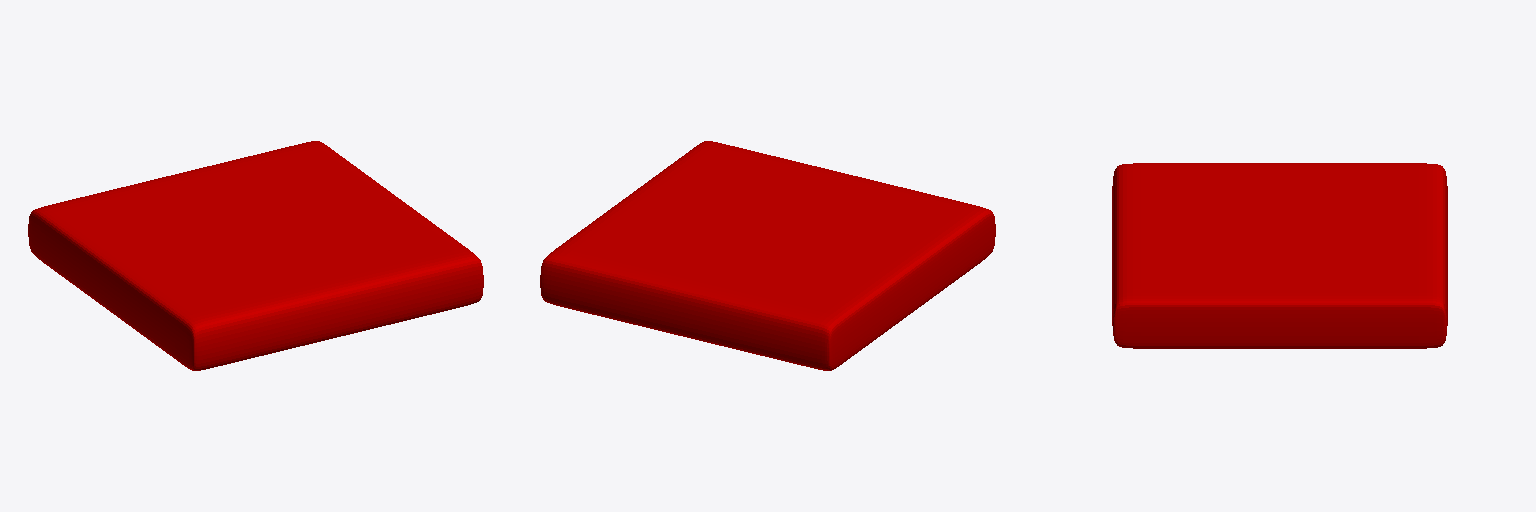
The model's file is cubeDanger.obj.
3 views of the same model, side by side, from view 1: azimuth 30°, elevation 25°; view 2: azimuth 150°, elevation 25°; view 3: azimuth 270°, elevation 25° (orthographic).
Parts seen in each view (by area): view 1: Cube; view 2: Cube; view 3: Cube.
Part boxes in pixels (left/top/right/bottom): Cube: left=28, top=141, right=483, bottom=370; Cube: left=540, top=141, right=995, bottom=370; Cube: left=1112, top=163, right=1447, bottom=348.
Bounding box in the file's own units: 2 × 0.3275 × 1.99.